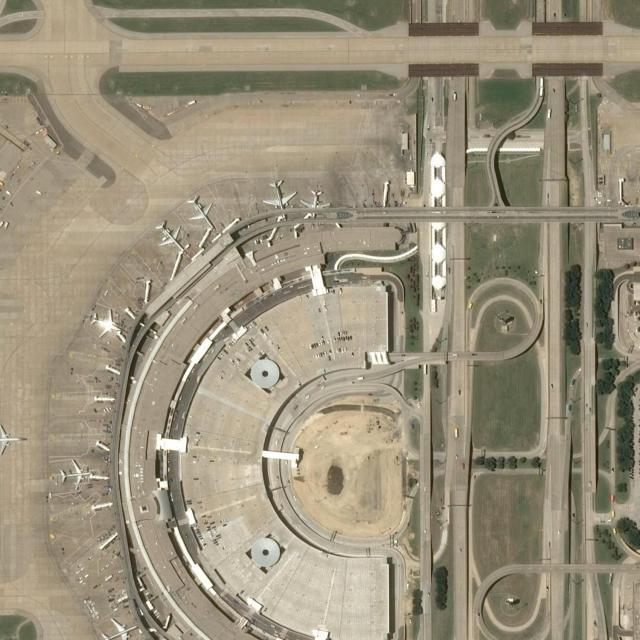Aircraft: (261, 174, 301, 216), (187, 190, 220, 232), (152, 217, 188, 254), (90, 303, 125, 341), (301, 185, 335, 219), (58, 457, 94, 489), (98, 614, 140, 640), (0, 420, 26, 456)
